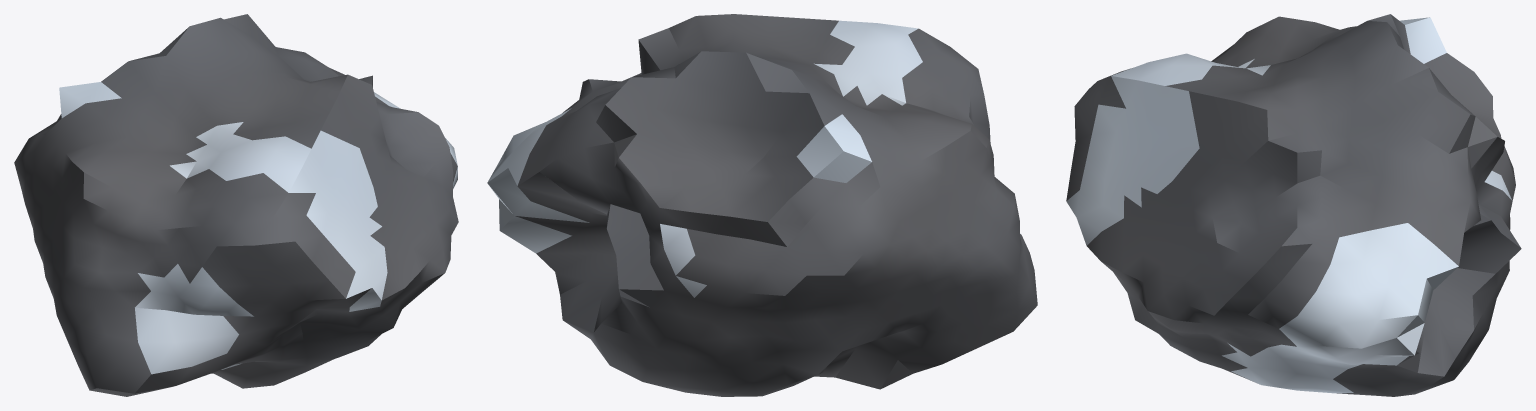
The model's file is asteroid_titanium_01.glb.
3 renders of one model, left to right at view 1: azimuth 30°, elevation 25°; view 2: azimuth 150°, elevation 25°; view 3: azimuth 270°, elevation 25°, orthographic. The views are drawn at different scales.
Parts seen in each view (by area): view 1: asteroid_titanium_01; view 2: asteroid_titanium_01; view 3: asteroid_titanium_01.
Boxes of the visible parts, box(x1,y1,x2,y2) form: asteroid_titanium_01: box(14, 14, 458, 396); asteroid_titanium_01: box(487, 14, 1037, 396); asteroid_titanium_01: box(1066, 14, 1521, 396).
Size of the model in its own units: 2.6 by 1.86 by 2.22.
